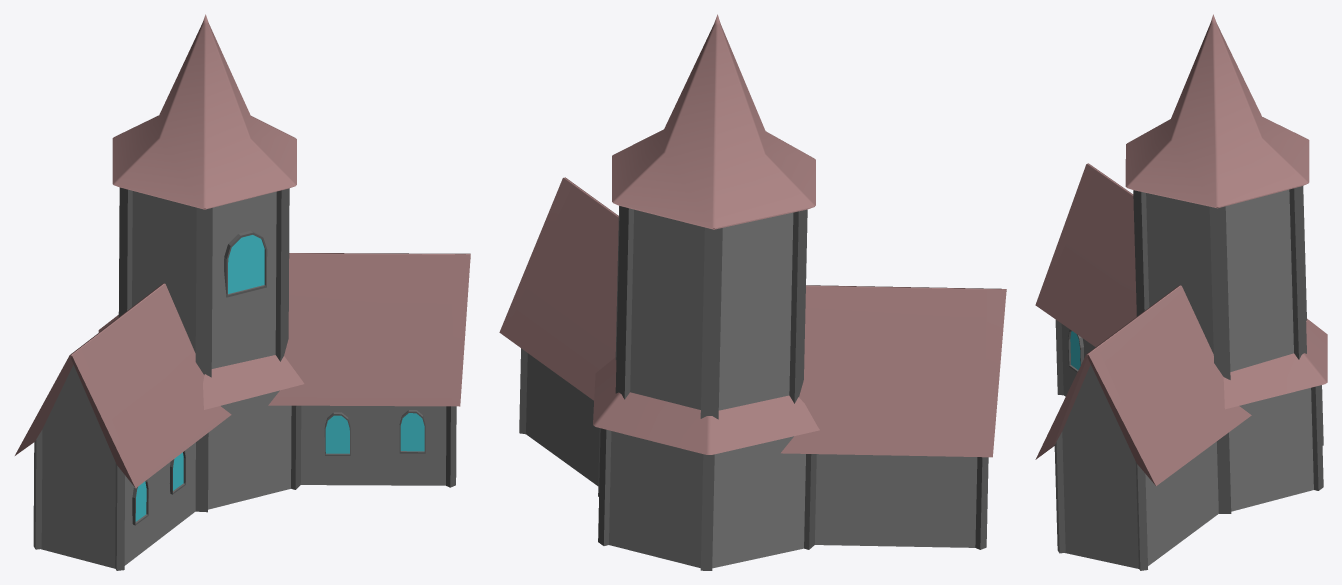
The model's file is Model_thievesGuild.fbx.
3 views of the same model, side by side, from view 1: azimuth 30°, elevation 25°; view 2: azimuth 150°, elevation 25°; view 3: azimuth 270°, elevation 25° (orthographic). The views are drawn at different scales.
Parts seen in each view (by area): view 1: pCylinder13; view 2: pCylinder13; view 3: pCylinder13.
Boxes of the visible parts, bbox=[...] form: pCylinder13: bbox=[15, 14, 470, 570]; pCylinder13: bbox=[499, 14, 1006, 570]; pCylinder13: bbox=[1035, 14, 1327, 570].
Bounding box in the file's own units: 11.23 × 11.08 × 6.4.
